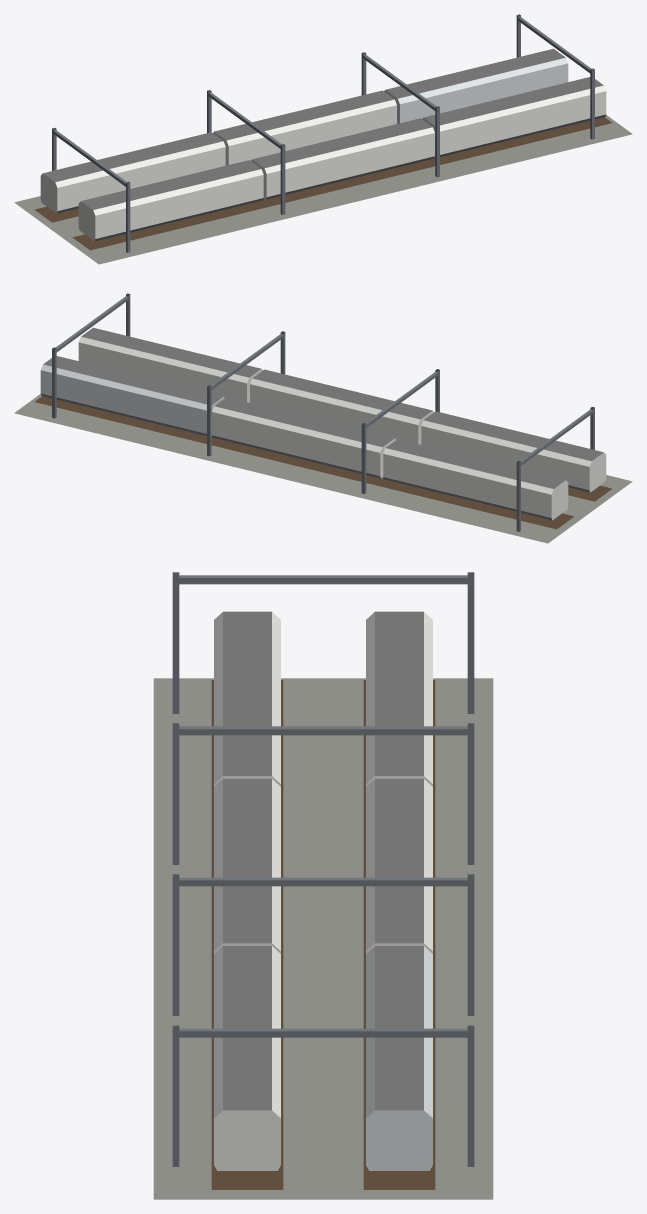
The model's file is mashup-yard-top-prebuilt_far.fbx.
3 views of the same model, one above another, from view 1: azimuth 30°, elevation 25°; view 2: azimuth 150°, elevation 25°; view 3: azimuth 270°, elevation 25° (orthographic). The views are drawn at different scales.
Parts seen in each view (by area): view 1: a1082/0/mashup-yard-top-prebuilt_far; view 2: a1082/0/mashup-yard-top-prebuilt_far; view 3: a1082/0/mashup-yard-top-prebuilt_far.
Part boxes in pixels (x1=…): a1082/0/mashup-yard-top-prebuilt_far: x1=14, y1=14, x2=632, y2=264; a1082/0/mashup-yard-top-prebuilt_far: x1=14, y1=293, x2=632, y2=543; a1082/0/mashup-yard-top-prebuilt_far: x1=153, y1=572, x2=493, y2=1199.
Bounding box in the file's own units: 55.2 × 6.85 × 15.2.
